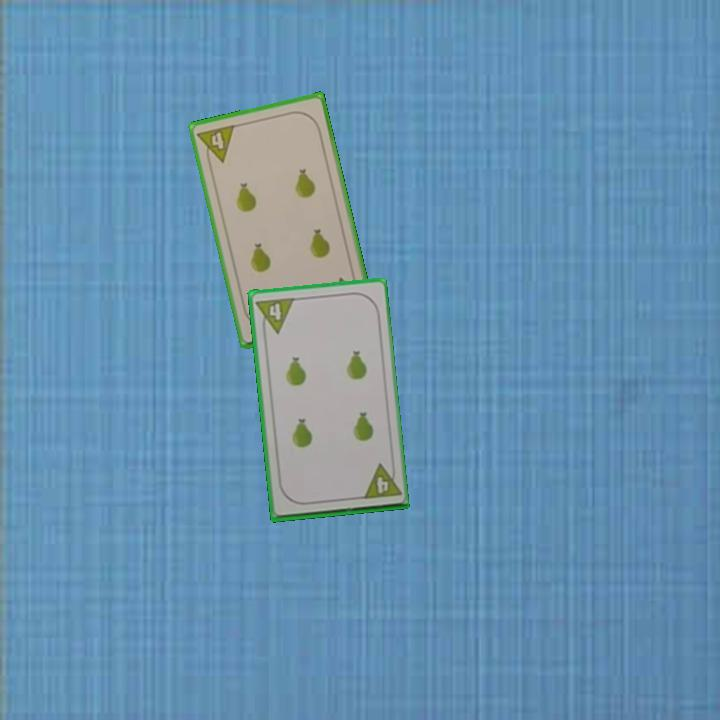4p: (194, 121, 238, 168), (252, 294, 297, 337), (358, 460, 403, 502)
